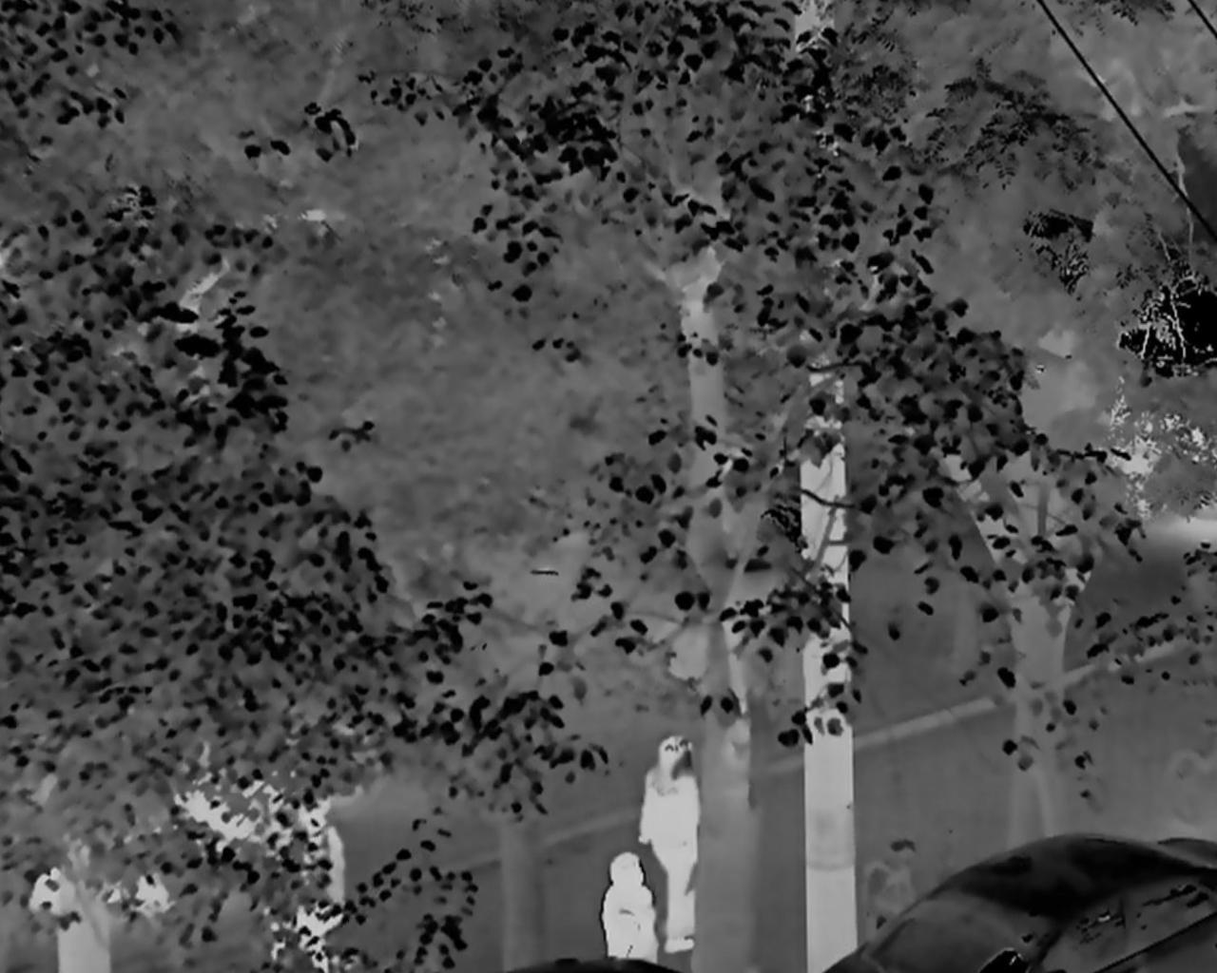person: (636, 736, 700, 949), (600, 854, 664, 971)
